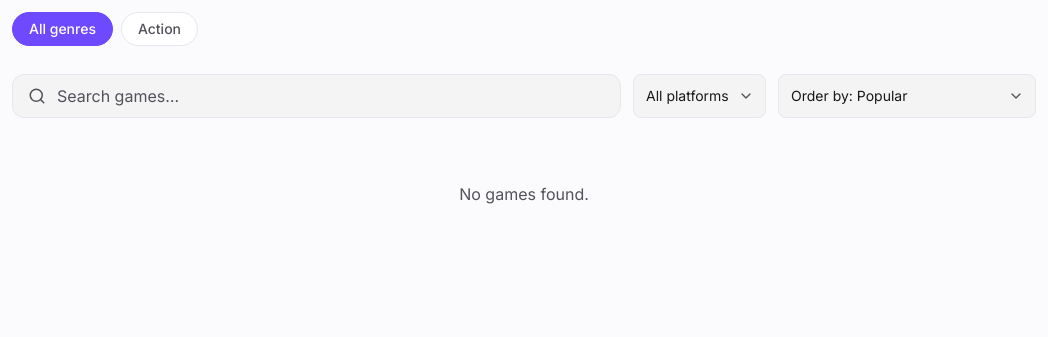
Test: HomePage › writes the chosen platform to the URL
Step 1. Select "PC" in the dropdown named "Filter by platform" → (700, 96), box [633,74,766,118]
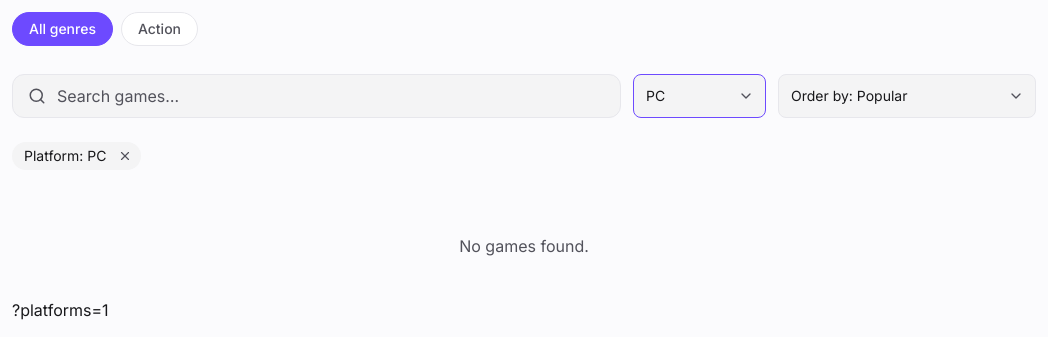
Expected: the text with test id "search" shows "platforms=1", [12,300,109,320]
